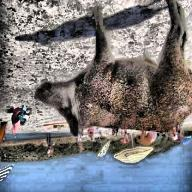boar: (32, 16, 192, 142)
